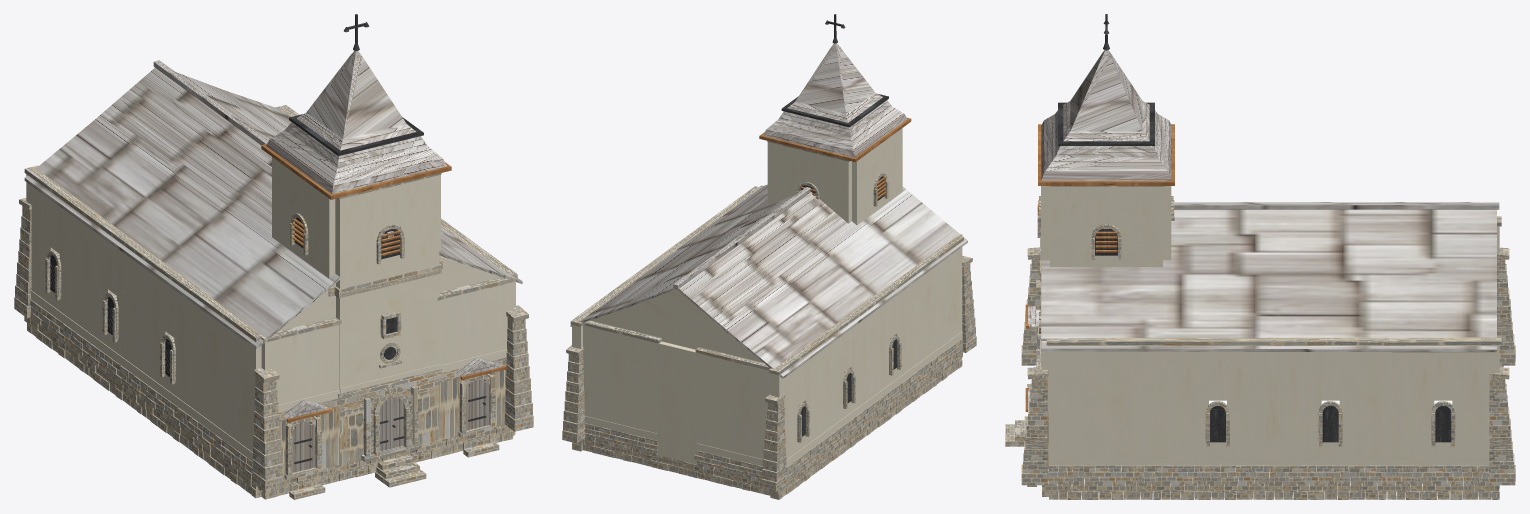
The model's file is tier1_church_delnice_v2.glb.
3 renders of one model, left to right at view 1: azimuth 30°, elevation 25°; view 2: azimuth 150°, elevation 25°; view 3: azimuth 270°, elevation 25°, orthographic. The views are drawn at different scales.
Parts seen in each view (by area): view 1: TC_Nave_Roof_Left, TC_Delnice_Flared_Spire, TC_Tower_Shaft_Front, TC_Tower_Belfry_Front, TC_Nave_Left_Bay_1, TC_Nave_Left_Bay_3, TC_Nave_Left_Bay_2, TC_Front_Right_Portal_Bay, TC_Nave_Left_Bay_4, TC_Front_Left_Portal_Bay, TC_Tower_Belfry_Left, TC_Nave_Roof_Right (+27 smaller); view 2: TC_Nave_Roof_Left, TC_Delnice_Flared_Spire, TC_Rear_Right_Bay, TC_Rear_Left_Bay, TC_Nave_Left_Bay_1, TC_Nave_Roof_Right, TC_Nave_Left_Bay_3, TC_Nave_Left_Bay_2, TC_Rear_Gable, TC_Nave_Left_Bay_4, TC_Rear_Centre_Infill, TC_Tower_Belfry_Rear (+13 smaller); view 3: TC_Nave_Roof_Right, TC_Nave_Right_Bay_1, TC_Nave_Right_Bay_2, TC_Nave_Right_Bay_3, TC_Nave_Right_Bay_4, TC_Delnice_Flared_Spire, TC_Tower_Belfry_Right, TC_FrontRight_Stone_Pilaster, TC_RearRight_Stone_Pilaster, TC_Nave_Ridge, TC_Foundation_Right_3, TC_Foundation_Right_4 (+10 smaller).
Boxes of the visible parts, <box> form: TC_Nave_Roof_Left: <box>24,67,339,348</box>; TC_Delnice_Flared_Spire: <box>261,36,451,199</box>; TC_Tower_Shaft_Front: <box>334,269,441,397</box>; TC_Tower_Belfry_Front: <box>334,173,441,293</box>; TC_Nave_Left_Bay_1: <box>195,294,262,479</box>; TC_Nave_Left_Bay_3: <box>82,208,146,397</box>; TC_Nave_Left_Bay_2: <box>139,250,205,439</box>; TC_Front_Right_Portal_Bay: <box>437,272,515,440</box>; TC_Nave_Left_Bay_4: <box>24,165,90,355</box>; TC_Front_Left_Portal_Bay: <box>257,317,341,477</box>; TC_Tower_Belfry_Left: <box>272,157,335,292</box>; TC_Nave_Roof_Right: <box>176,72,522,283</box>; TC_Nave_Roof_Left: <box>677,186,967,378</box>; TC_Delnice_Flared_Spire: <box>759,31,911,162</box>; TC_Rear_Right_Bay: <box>583,320,661,455</box>; TC_Rear_Left_Bay: <box>694,347,783,480</box>; TC_Nave_Left_Bay_1: <box>910,236,963,385</box>; TC_Nave_Roof_Right: <box>570,184,794,326</box>; TC_Nave_Left_Bay_3: <box>820,303,872,452</box>; TC_Nave_Left_Bay_2: <box>864,270,917,418</box>; TC_Rear_Gable: <box>590,289,763,362</box>; TC_Nave_Left_Bay_4: <box>768,336,826,481</box>; TC_Rear_Centre_Infill: <box>657,341,697,464</box>; TC_Tower_Belfry_Rear: <box>767,141,851,223</box>; TC_Nave_Roof_Right: <box>1041,209,1496,352</box>; TC_Nave_Right_Bay_1: <box>1046,338,1163,483</box>; TC_Nave_Right_Bay_2: <box>1158,337,1276,483</box>; TC_Nave_Right_Bay_3: <box>1272,337,1388,483</box>; TC_Nave_Right_Bay_4: <box>1385,335,1501,483</box>; TC_Delnice_Flared_Spire: <box>1038,35,1174,185</box>; TC_Tower_Belfry_Right: <box>1048,186,1164,267</box>; TC_FrontRight_Stone_Pilaster: <box>1021,367,1048,485</box>; TC_RearRight_Stone_Pilaster: <box>1489,367,1515,485</box>; TC_Nave_Ridge: <box>1173,202,1499,209</box>; TC_Foundation_Right_3: <box>1270,478,1386,499</box>; TC_Foundation_Right_4: <box>1383,478,1499,499</box>.
Size of the model in its own units: 10.81 by 16.57 by 18.1.
11 materials, 11 textured.
